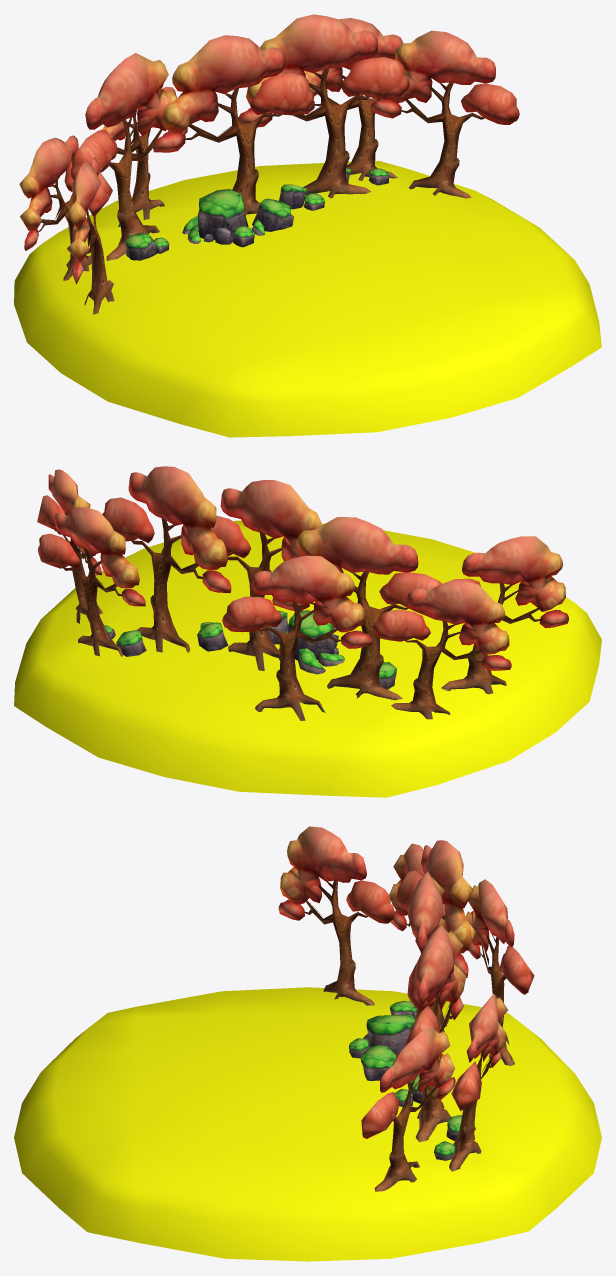
3 renders of one model, top to bottom at view 1: azimuth 30°, elevation 25°; view 2: azimuth 150°, elevation 25°; view 3: azimuth 270°, elevation 25°, orthographic. The views are drawn at different scales.
Parts seen in each view (by area): view 1: plane01, tree1 (×8), stone1; view 2: plane01, tree1 (×8), stone1; view 3: plane01, tree1 (×8), stone1.
Part boxes in pixels (x1=…): plane01: x1=14, y1=161, x2=601, y2=437; tree1 (×8): x1=19, y1=14, x2=519, y2=314; stone1: x1=125, y1=168, x2=389, y2=260; plane01: x1=14, y1=520, x2=601, y2=797; tree1 (×8): x1=37, y1=466, x2=568, y2=720; stone1: x1=104, y1=610, x2=396, y2=689; plane01: x1=14, y1=987, x2=601, y2=1261; tree1 (×8): x1=278, y1=826, x2=534, y2=1191; stone1: x1=349, y1=1001, x2=475, y2=1160.
Bounding box in the file's own units: 17.18 × 8.03 × 17.21.
3 materials, 3 textured.
